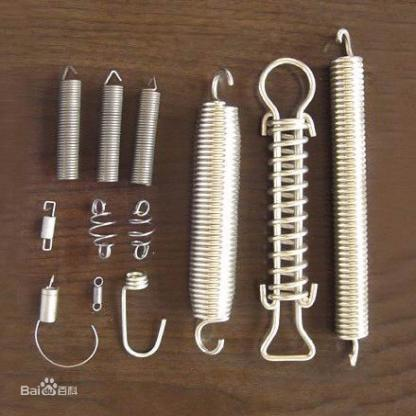FOD: (252, 55, 320, 366), (189, 64, 244, 358), (328, 26, 371, 366), (118, 268, 170, 360), (129, 74, 161, 190), (88, 196, 118, 260)
